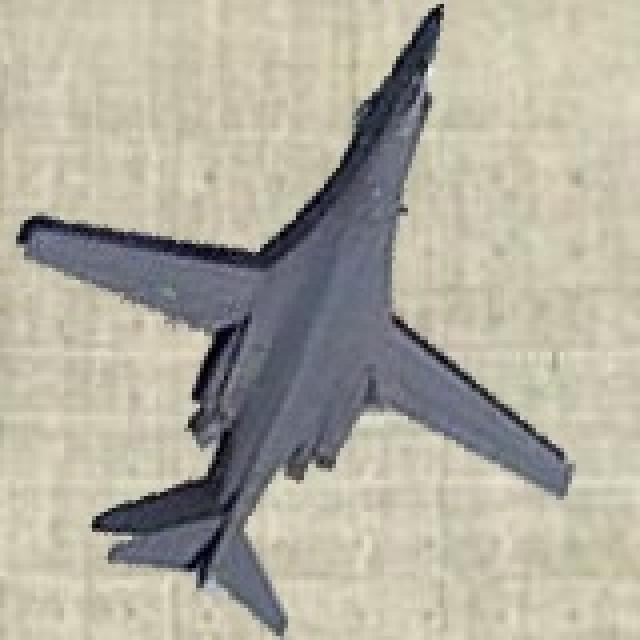B-1_TopDown: (12, 0, 576, 636)
